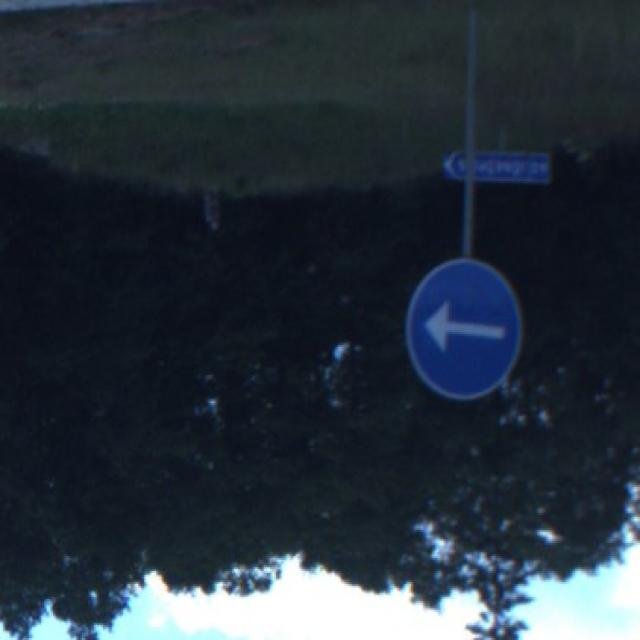Turn Left: (402, 255, 525, 406)
